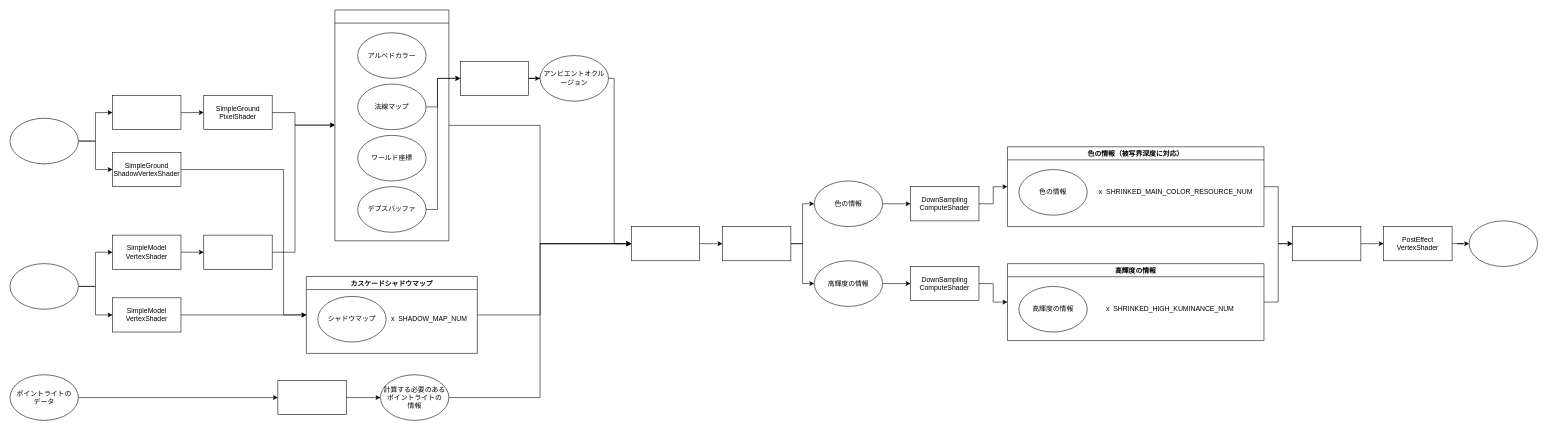
This 1548x430 diagram has some shape labels left out. The shapes that lost their labels are listed below. From the top down, each one's box as (x1, y1, x2, y2) in pixels, then its label:
(460, 61, 529, 95): SSAO ComputeShader
(112, 95, 181, 130): SimpleGroumd VertexShader
(334, 9, 449, 241): GBuffer
(9, 118, 78, 164): 地面のメッシュ
(203, 235, 272, 269): SimpleModel PixelShader
(631, 226, 700, 261): DeferredRendering VertexShader
(722, 226, 791, 261): DefferrdRendering PixelSahder
(1292, 226, 1361, 261): PostEffect PixelShader
(1469, 220, 1538, 266): フレームバッファ
(9, 263, 78, 309): 兎のメッシュ
(277, 380, 346, 415): LightCulling ComputeShader
